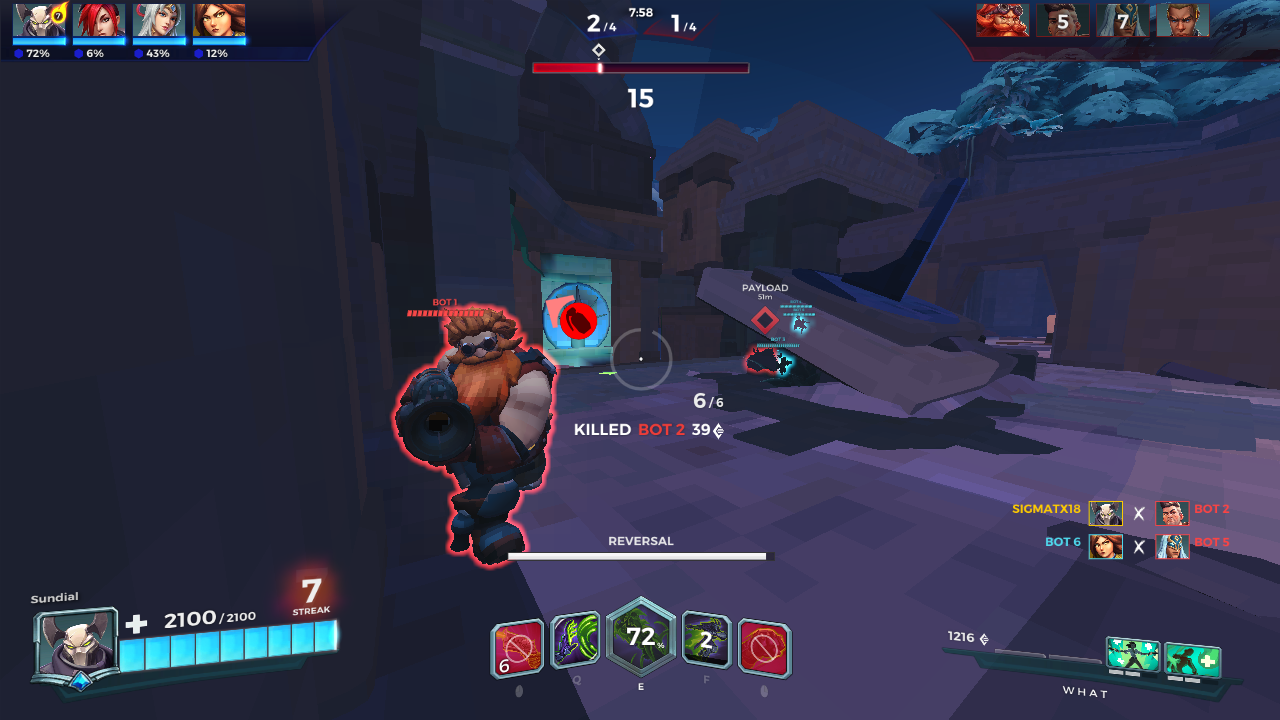model: (390, 300, 562, 568)
